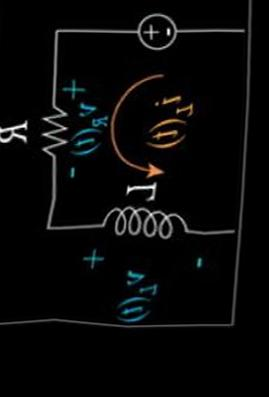Battery: (123, 2, 187, 61)
